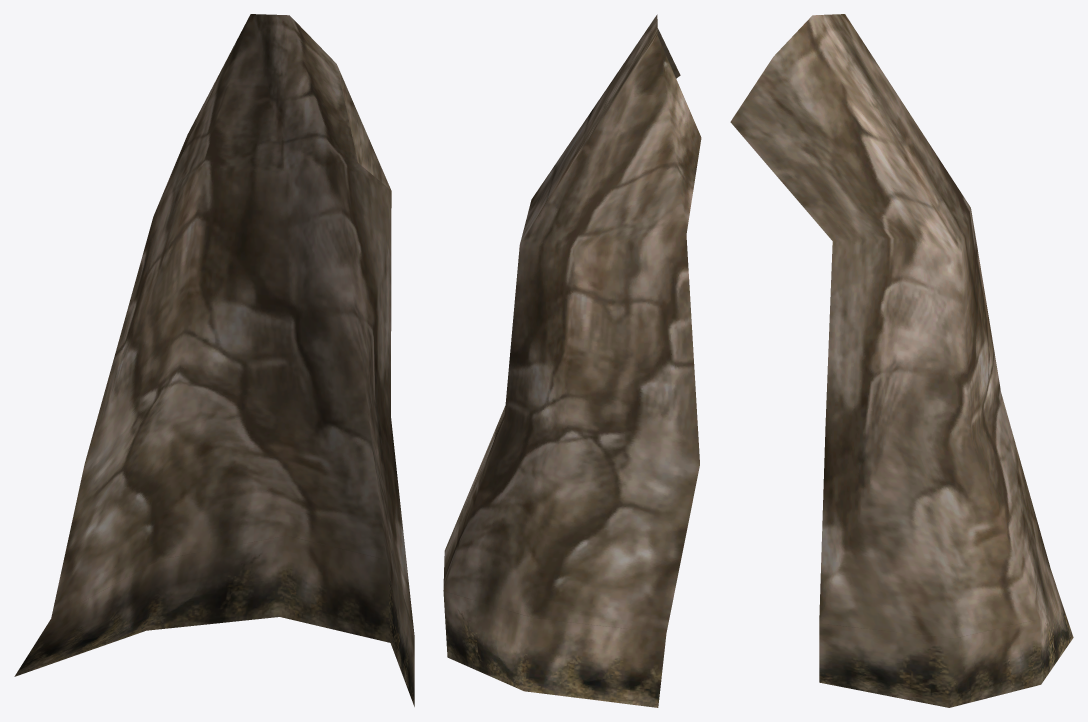
The model's file is OVERHILL_A_01_ROCK_SLAB_02.fbx.
The picture shows the model from 3 angles, left to right: view 1: azimuth 30°, elevation 25°; view 2: azimuth 150°, elevation 25°; view 3: azimuth 270°, elevation 25°; orthographic projection. The views are drawn at different scales.
Visible parts, largest first — view 1: OVERHILL_A_01_ROCK_SLAB_02; view 2: OVERHILL_A_01_ROCK_SLAB_02; view 3: OVERHILL_A_01_ROCK_SLAB_02.
Boxes of the visible parts, x1,y1,x2,y2 form: OVERHILL_A_01_ROCK_SLAB_02: (14, 14, 414, 706); OVERHILL_A_01_ROCK_SLAB_02: (443, 14, 701, 707); OVERHILL_A_01_ROCK_SLAB_02: (730, 14, 1073, 707).
Bounding box in the file's own units: 28041 × 61206 × 30824.
Materials: 2 (2 with a texture image).
